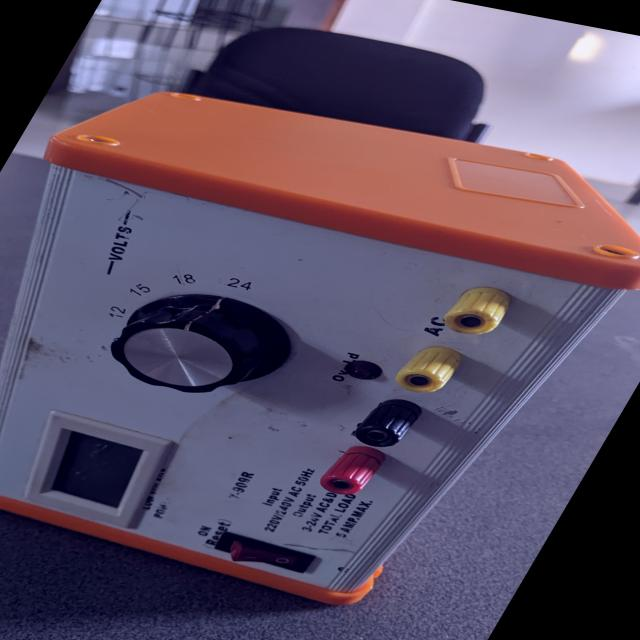AC and DC Power Supply 24V: (0, 55, 640, 635)
